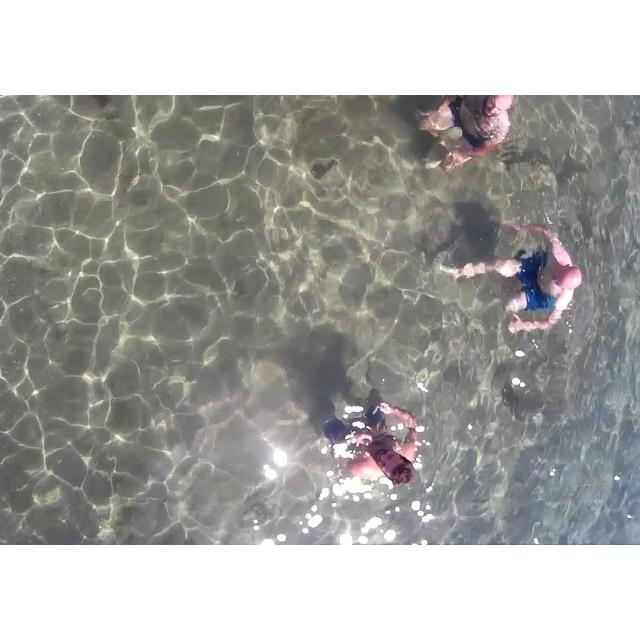human: (455, 206, 582, 344), (311, 378, 421, 505), (415, 95, 519, 180)
